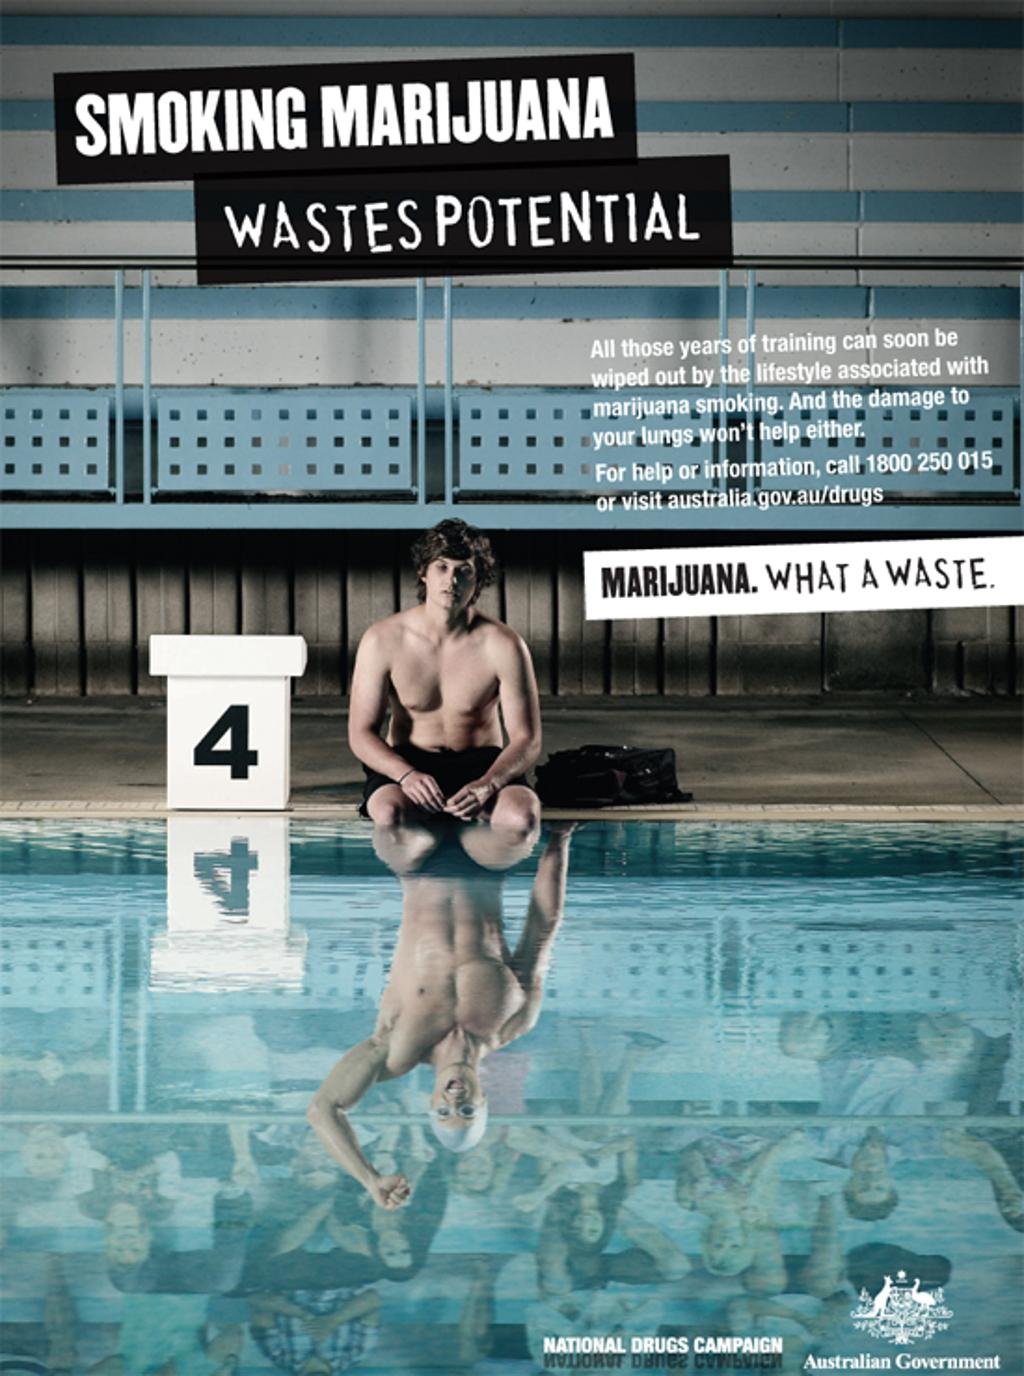face: (429, 1072, 488, 1153), (425, 546, 473, 615)
